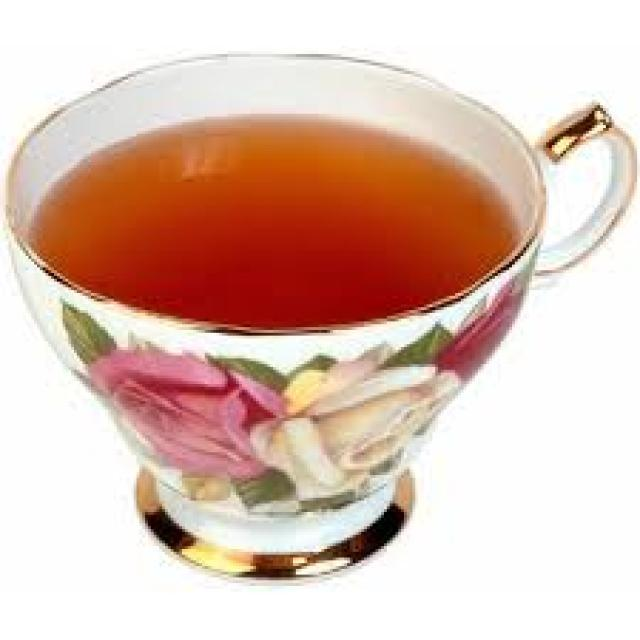taza: (11, 29, 634, 532)
